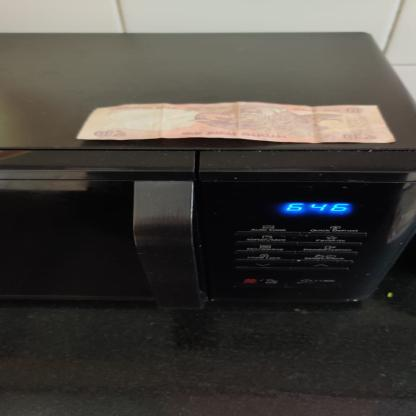Old10Back: (75, 101, 397, 143)
